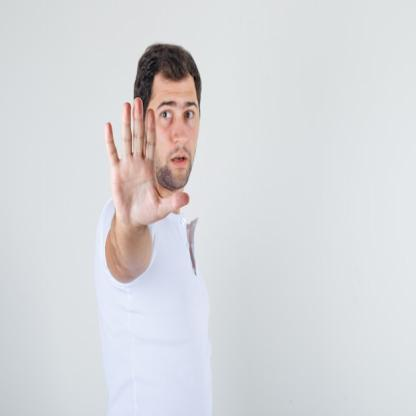stop: (98, 90, 192, 233)
